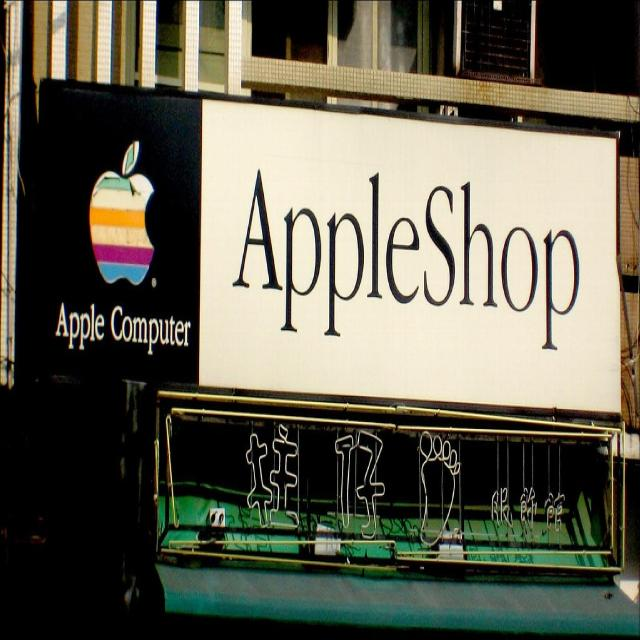apple: (83, 135, 160, 292)
